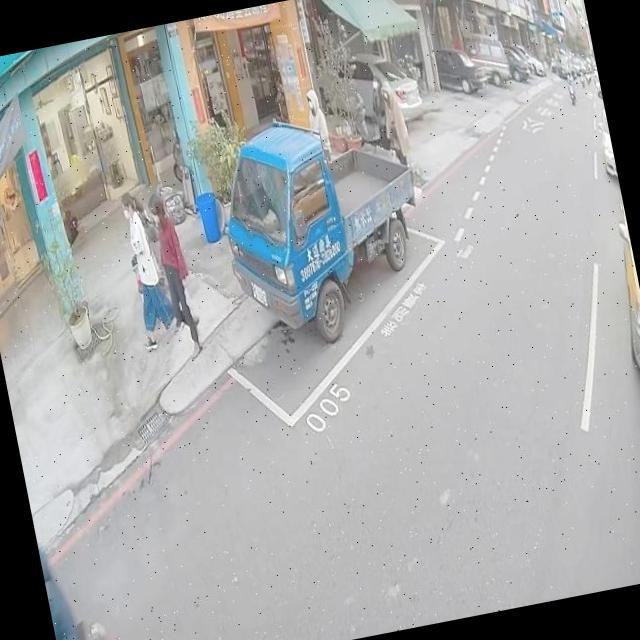person: (140, 183, 208, 360), (119, 194, 179, 345), (373, 74, 417, 186), (37, 542, 87, 640), (300, 80, 336, 163), (366, 74, 398, 156), (566, 69, 572, 83)
